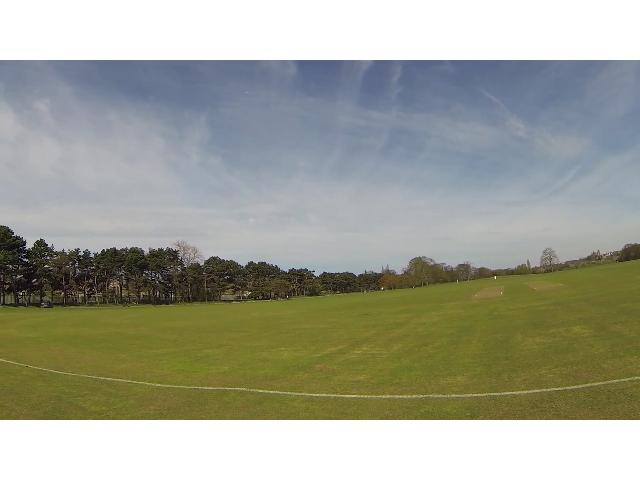Anti-Drone: (244, 88, 252, 95)
